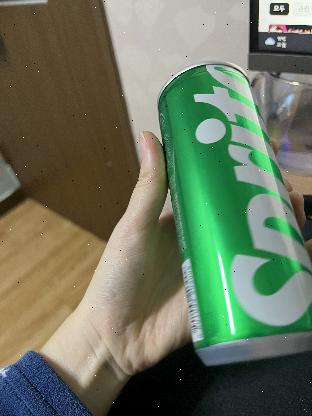Can: (155, 66, 312, 374)
